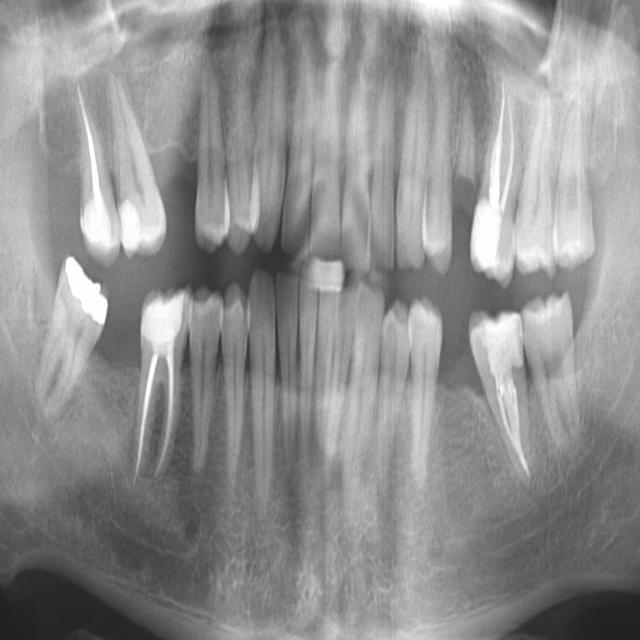dolgu: (453, 299, 533, 389), (52, 250, 109, 336), (103, 186, 170, 257), (466, 200, 514, 288), (140, 289, 190, 360), (80, 189, 118, 253)
kanal-tedavisi: (478, 370, 542, 490), (67, 72, 116, 215), (477, 73, 522, 218), (135, 346, 172, 481)
